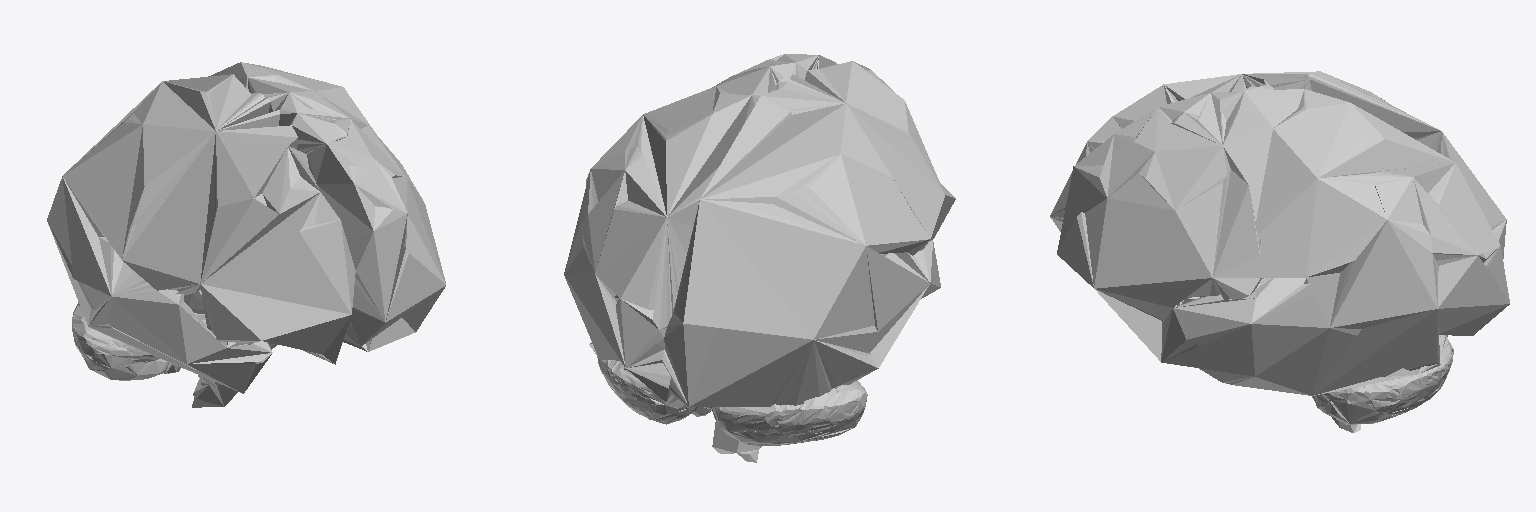
Rendered from brain.obj.
3 renders of one model, left to right at view 1: azimuth 30°, elevation 25°; view 2: azimuth 150°, elevation 25°; view 3: azimuth 270°, elevation 25°, orthographic.
Visible parts, largest first — view 1: uploads-files-[number redacted]-Brain_Model; view 2: uploads-files-[number redacted]-Brain_Model; view 3: uploads-files-[number redacted]-Brain_Model.
Part boxes in pixels (x1,y1,x2,y2): uploads-files-[number redacted]-Brain_Model: (47, 62, 445, 407); uploads-files-[number redacted]-Brain_Model: (564, 54, 955, 462); uploads-files-[number redacted]-Brain_Model: (1050, 71, 1509, 432).
Bounding box in the file's own units: 4.1 × 4.41 × 5.33.